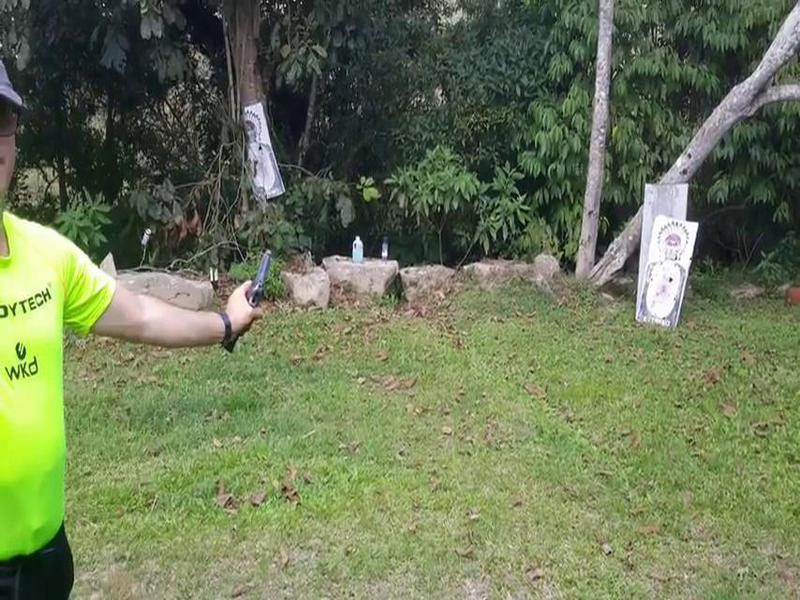Pistola: (216, 240, 275, 354)
